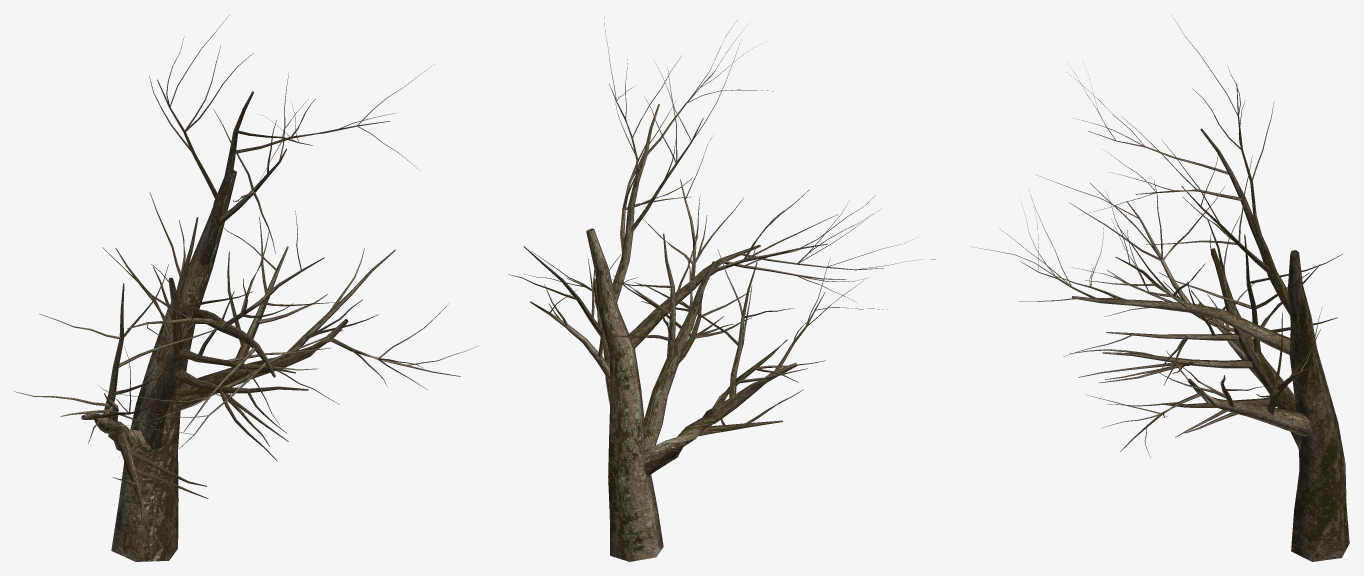
Rendered from dead_tree_c.glb.
3 views of the same model, side by side, from view 1: azimuth 30°, elevation 25°; view 2: azimuth 150°, elevation 25°; view 3: azimuth 270°, elevation 25° (orthographic). The views are drawn at different scales.
Visible parts, largest first — view 1: arbre; view 2: arbre; view 3: arbre.
Part boxes in pixels (left/top/right/bottom): arbre: left=14, top=15, right=478, bottom=561; arbre: left=508, top=16, right=935, bottom=561; arbre: left=971, top=14, right=1349, bottom=561.
Size of the model in its own units: 3.74 by 4.64 by 3.09.
1 material, 1 textured.
